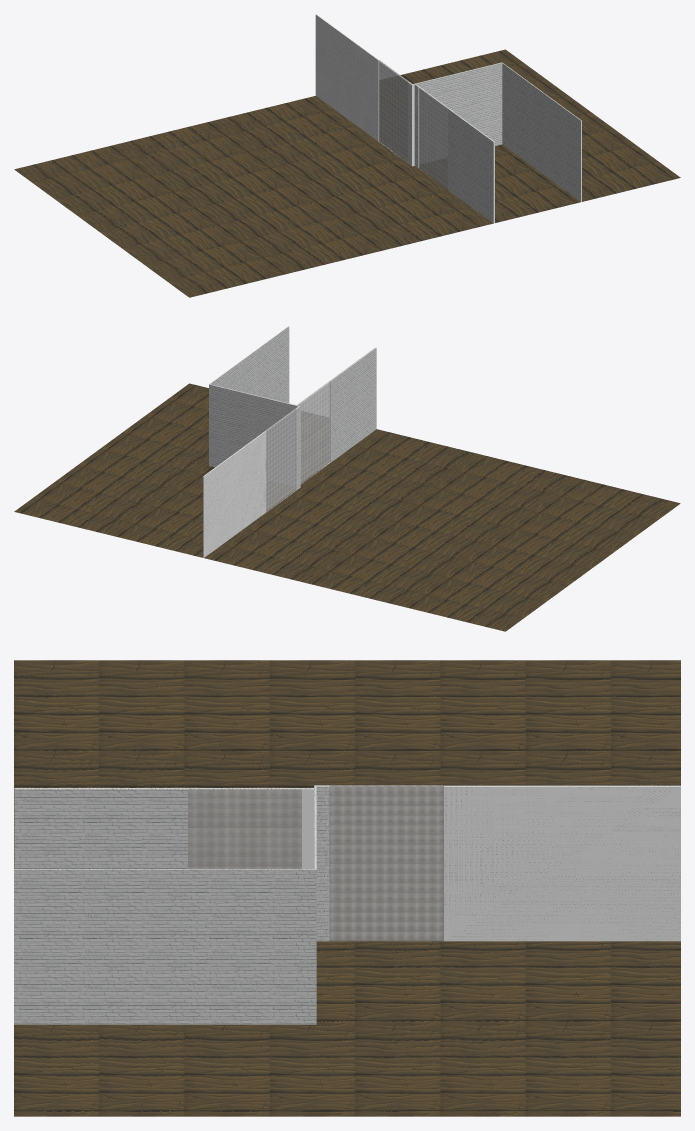
The model's file is EClinicModel.dae.
3 renders of one model, top to bottom at view 1: azimuth 30°, elevation 25°; view 2: azimuth 150°, elevation 25°; view 3: azimuth 270°, elevation 25°, orthographic. The views are drawn at different scales.
Visible parts, largest first — view 1: group_1, group_0 (×6); view 2: group_1, group_0 (×6); view 3: group_1, group_0 (×5).
Boxes of the visible parts, x1=… form: group_1: x1=14, y1=49, x2=680, y2=297; group_0 (×6): x1=315, y1=14, x2=581, y2=223; group_1: x1=14, y1=383, x2=680, y2=631; group_0 (×6): x1=203, y1=326, x2=376, y2=557; group_1: x1=14, y1=660, x2=680, y2=1116; group_0 (×5): x1=14, y1=785, x2=680, y2=1024.
Size of the model in its own units: 607 by 375 by 96.
Materials: 5 (4 with a texture image).
